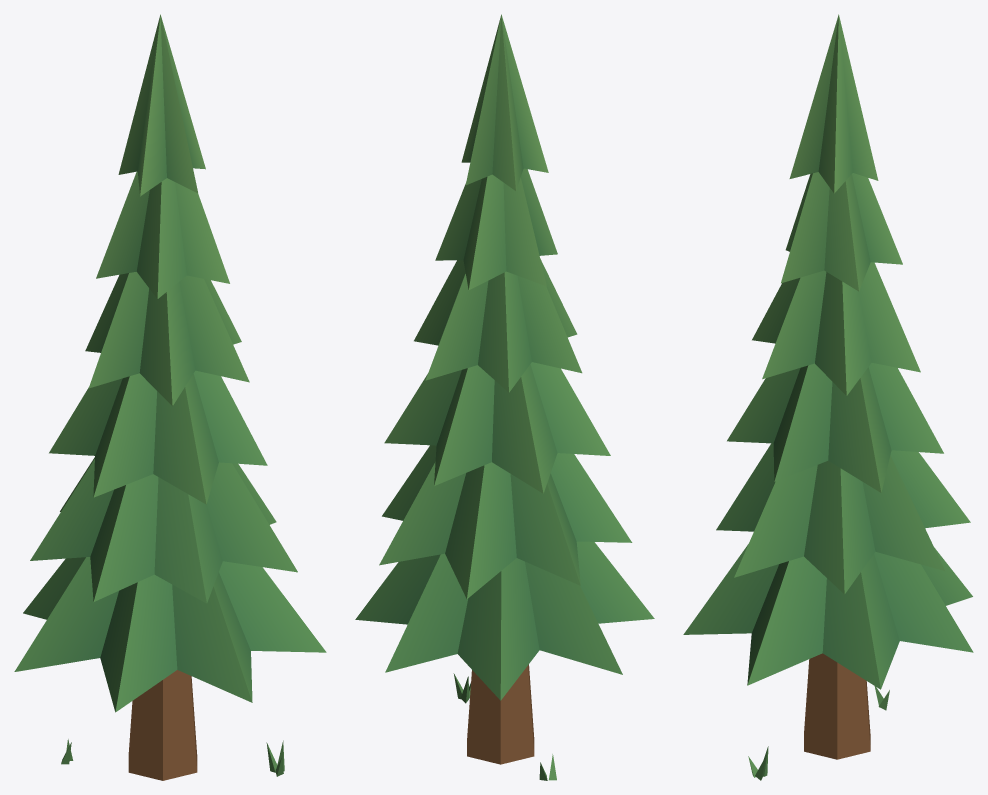
File: ranch_border_pine_tall.fbx
3 renders of one model, left to right at view 1: azimuth 30°, elevation 25°; view 2: azimuth 150°, elevation 25°; view 3: azimuth 270°, elevation 25°, orthographic. The views are drawn at different scales.
Parts seen in each view (by area): view 1: ranch_border_pine_tall; view 2: ranch_border_pine_tall; view 3: ranch_border_pine_tall.
Part boxes in pixels (left/top/right/bottom): ranch_border_pine_tall: left=14, top=14, right=326, bottom=780; ranch_border_pine_tall: left=355, top=14, right=654, bottom=780; ranch_border_pine_tall: left=683, top=14, right=973, bottom=780.
Size of the model in its own units: 9.12 by 24.87 by 8.99.
